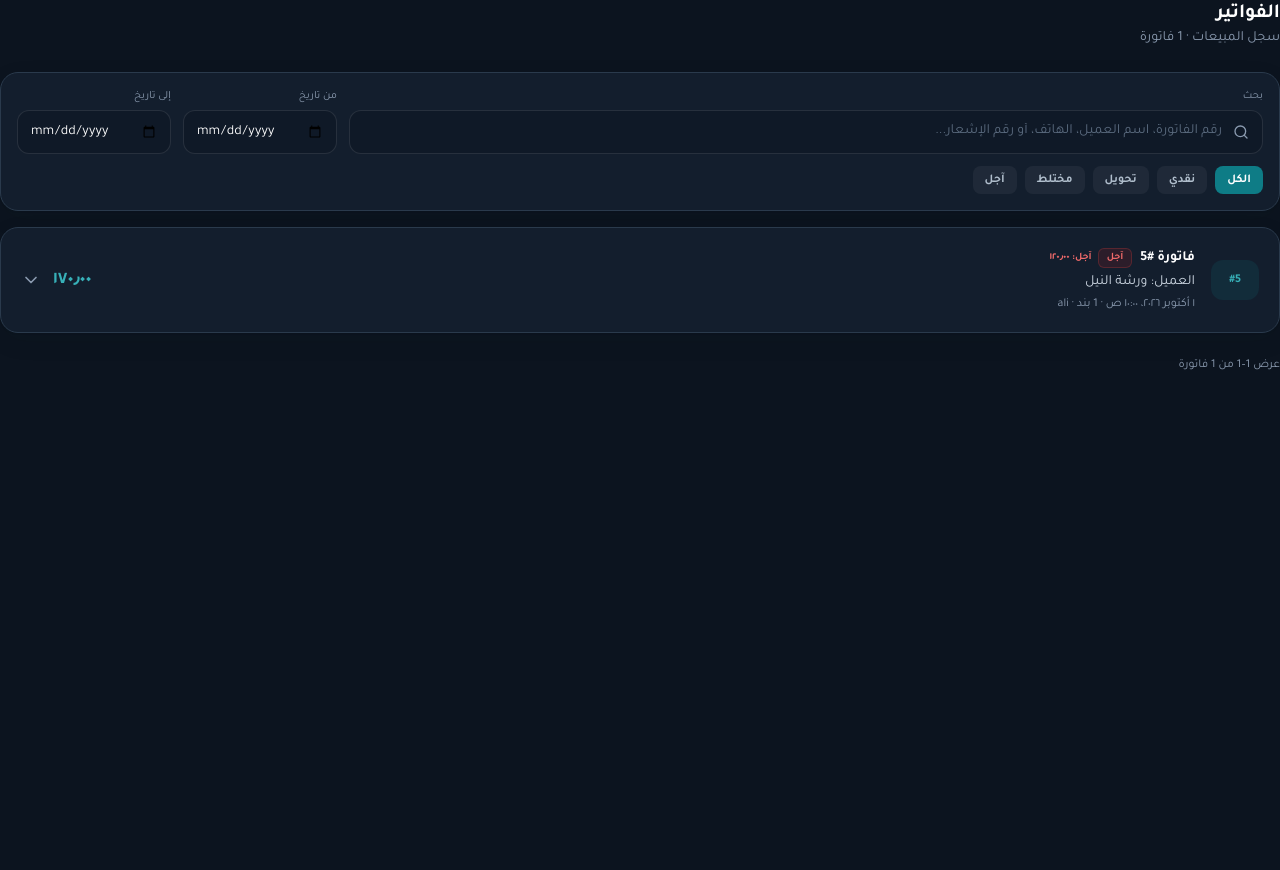
صفحة الفواتير › الموظف لا يرى زر المرتجع
Step 1. Click the button "فاتورة #5" → (1235, 280), box x1=1 y1=228 x2=1279 y2=332
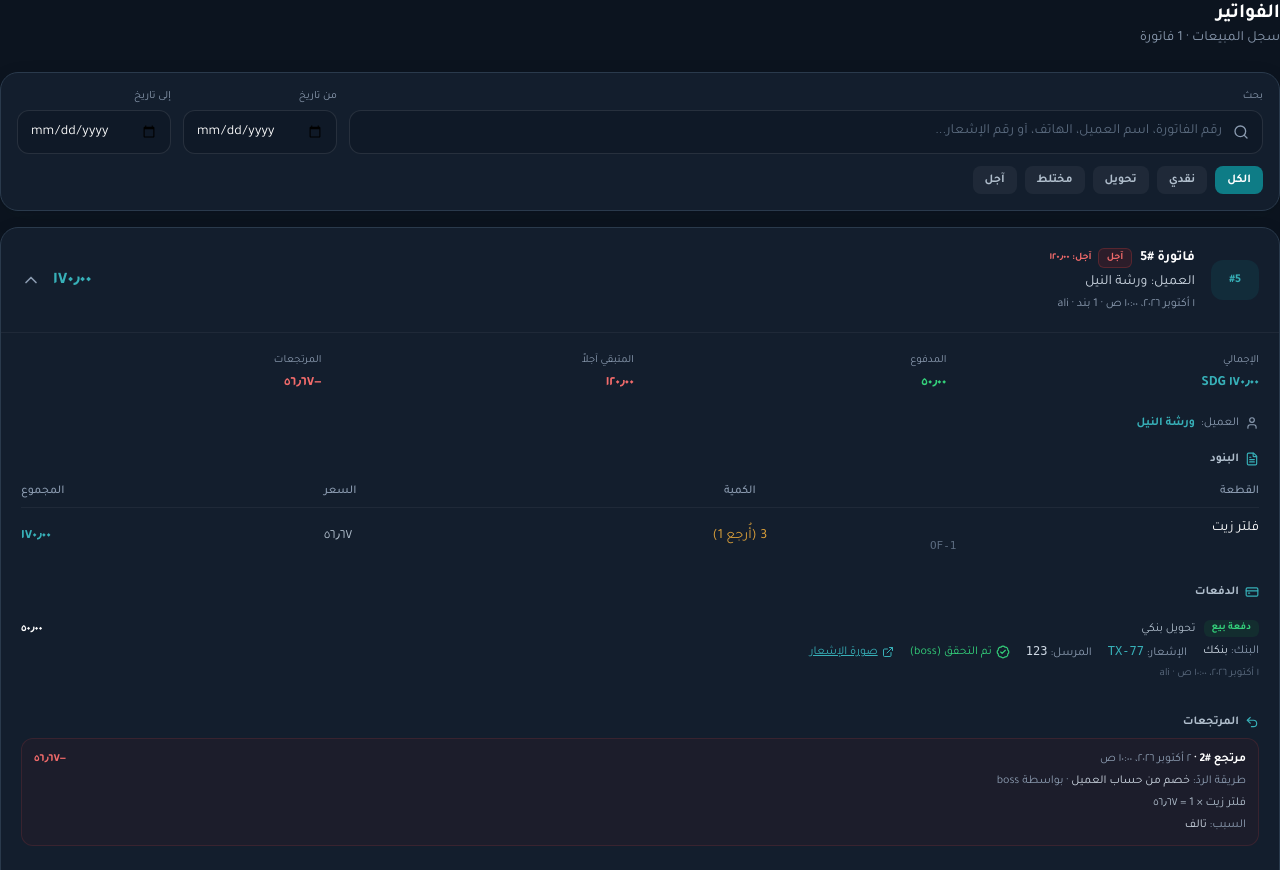
expect the text "3 (أُرجع 1)" is shown: met, box x1=550 y1=508 x2=930 y2=564
